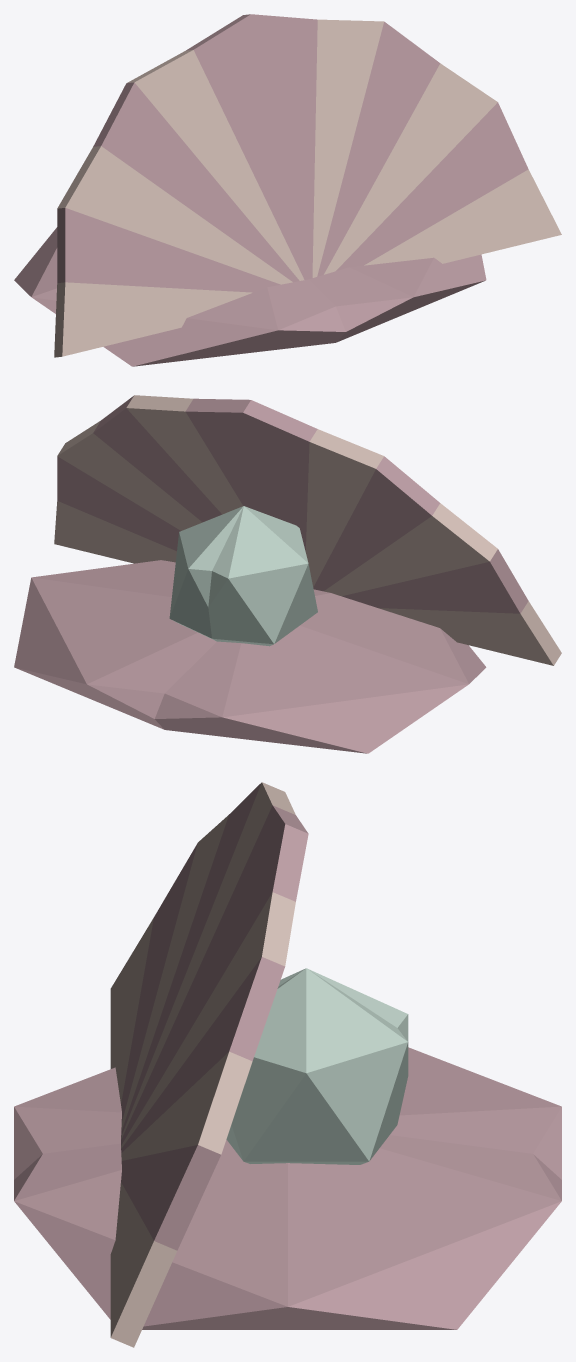
File: PirateCove_PearlClam_Simple.glb
The picture shows the model from 3 angles, top to bottom: view 1: azimuth 30°, elevation 25°; view 2: azimuth 150°, elevation 25°; view 3: azimuth 270°, elevation 25°; orthographic projection. The views are drawn at different scales.
Visible parts, largest first — view 1: PirateCove_PearlClam_Simple; view 2: PirateCove_PearlClam_Simple; view 3: PirateCove_PearlClam_Simple.
Boxes of the visible parts, <box> form: PirateCove_PearlClam_Simple: <box>14,14,561,366</box>; PirateCove_PearlClam_Simple: <box>14,395,561,753</box>; PirateCove_PearlClam_Simple: <box>14,782,561,1347</box>.
Bounding box in the file's own units: 4.49 × 2.48 × 2.98.
